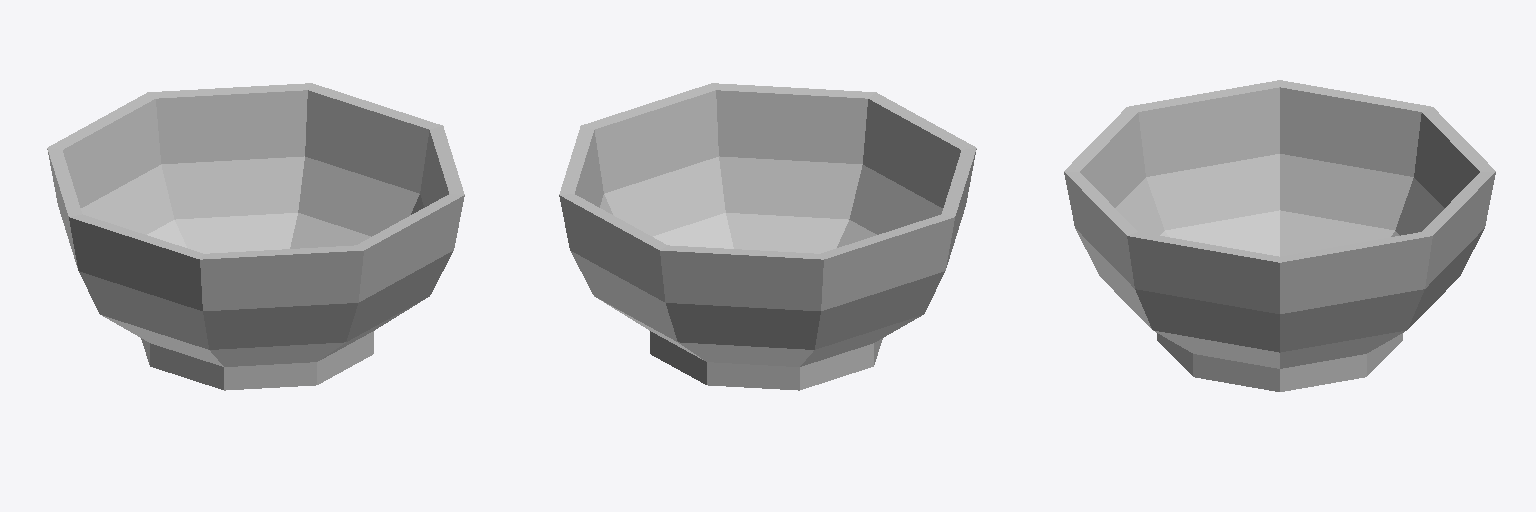
File: Bowl.obj
3 renders of one model, left to right at view 1: azimuth 30°, elevation 25°; view 2: azimuth 150°, elevation 25°; view 3: azimuth 270°, elevation 25°, orthographic.
Visible parts, largest first — view 1: Circle.006; view 2: Circle.006; view 3: Circle.006.
Part boxes in pixels (bbox=[...]): Circle.006: bbox=[47, 83, 464, 390]; Circle.006: bbox=[559, 83, 976, 390]; Circle.006: bbox=[1064, 80, 1495, 391].
Bounding box in the file's own units: 9.99 × 4.31 × 9.99.